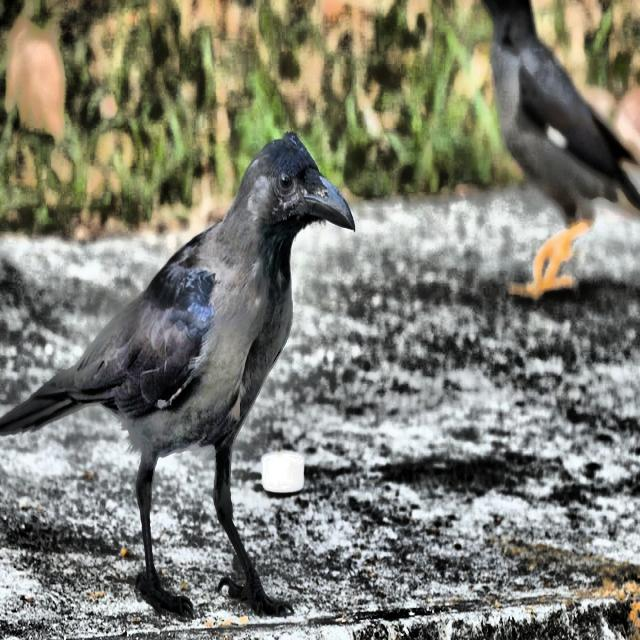crow: (21, 126, 374, 629)
